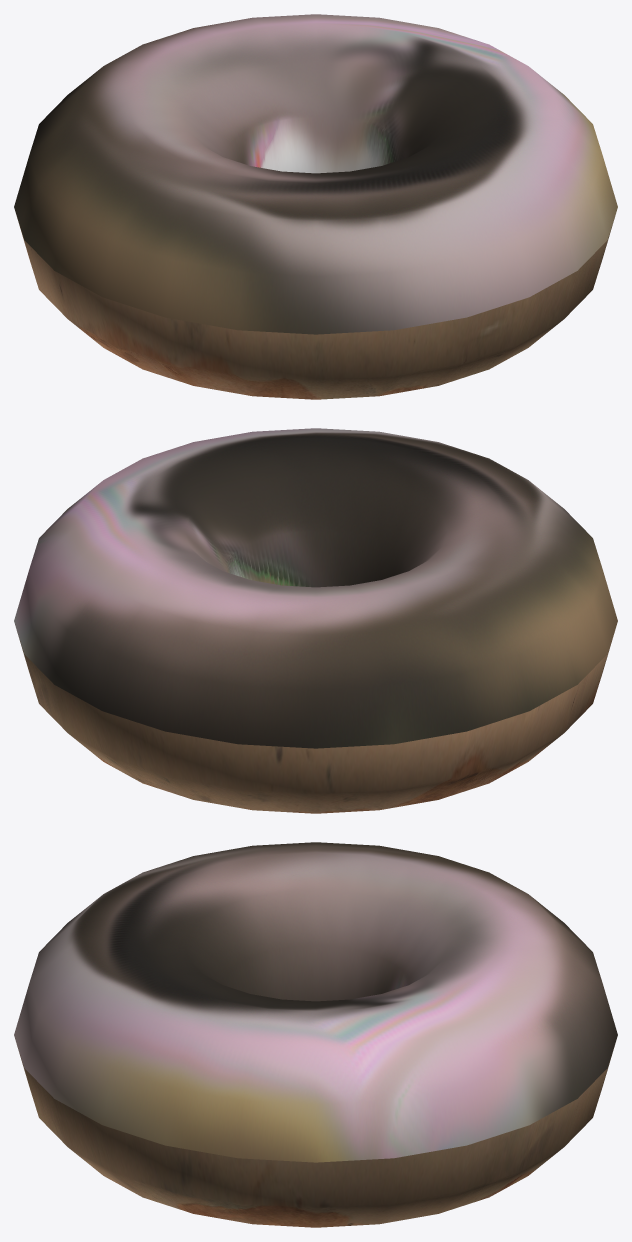
File: Donut.fbx
The picture shows the model from 3 angles, top to bottom: view 1: azimuth 30°, elevation 25°; view 2: azimuth 150°, elevation 25°; view 3: azimuth 270°, elevation 25°; orthographic projection.
Parts seen in each view (by area): view 1: Donut; view 2: Donut; view 3: Donut.
Boxes of the visible parts, x1,y1,x2,y2 form: Donut: (14, 14, 617, 399); Donut: (14, 428, 617, 813); Donut: (14, 842, 617, 1227).
Bounding box in the file's own units: 75.51 × 28.41 × 75.51.
1 material, 1 textured.
